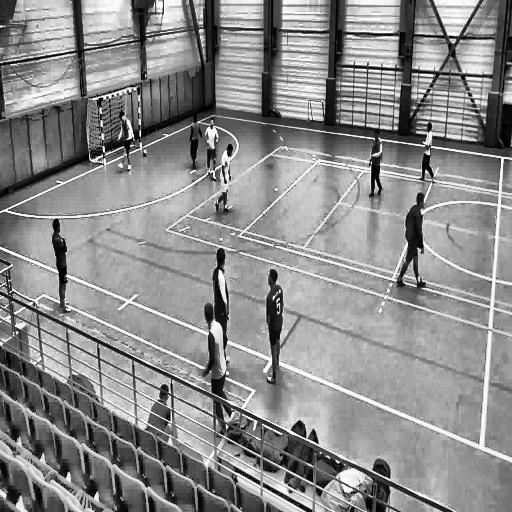ball: (142, 147, 148, 159)
player: (198, 298, 236, 437), (392, 189, 430, 293), (259, 265, 283, 386), (211, 246, 233, 376), (48, 216, 73, 319), (144, 380, 178, 442), (216, 142, 234, 218), (116, 109, 137, 174), (367, 128, 385, 202), (187, 108, 205, 180), (418, 123, 437, 186), (204, 116, 219, 184)
